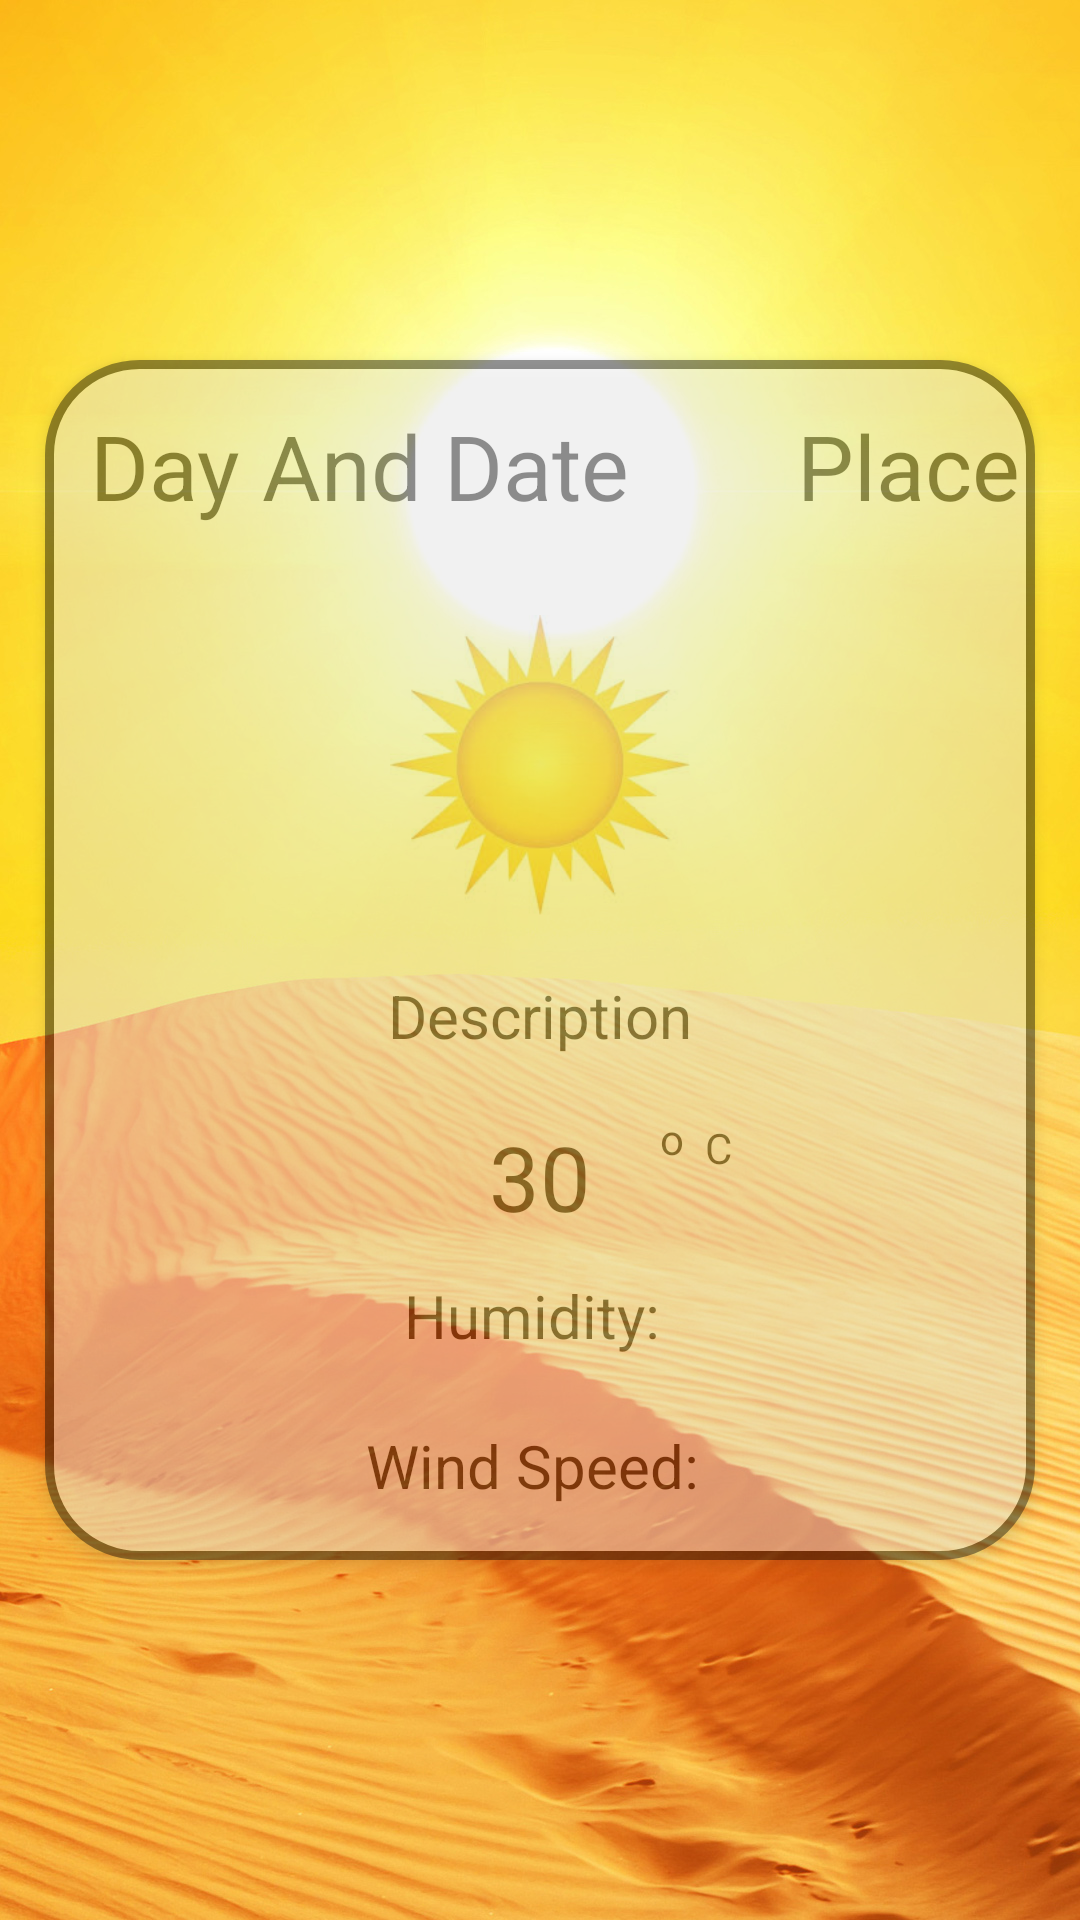

Where to tap for icons on this 1080w x 1920h app screen, as [x,y]:
sun: [540,765]
